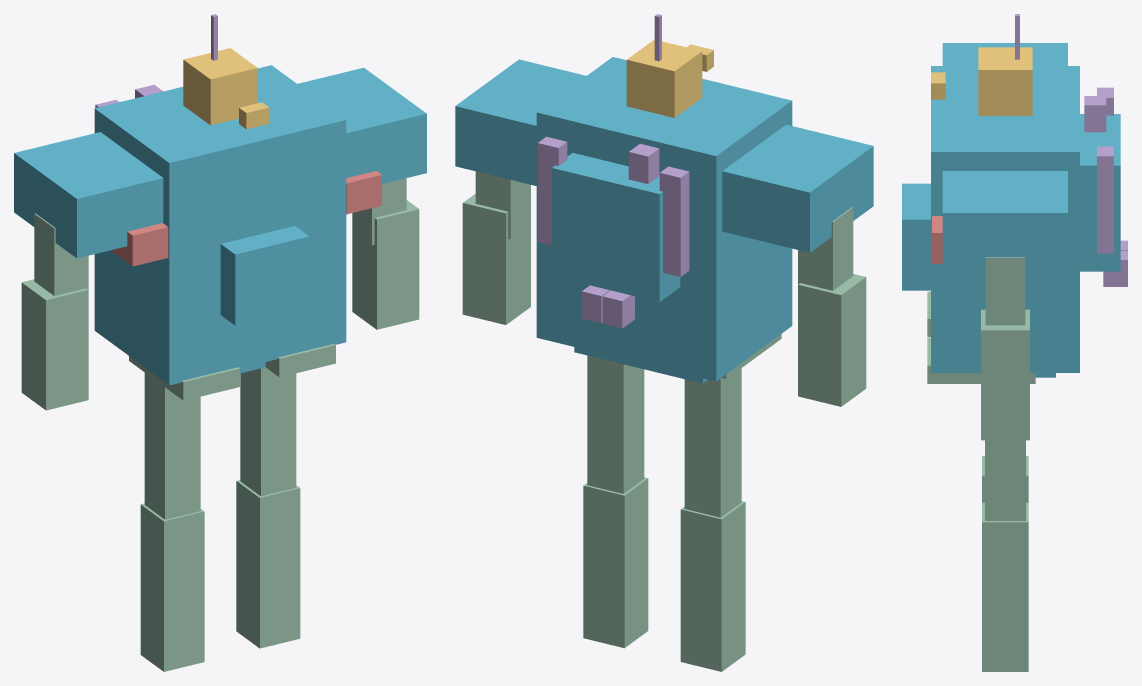
File: mechfall_bt7274.glb
3 renders of one model, left to right at view 1: azimuth 30°, elevation 25°; view 2: azimuth 150°, elevation 25°; view 3: azimuth 270°, elevation 25°, orthographic.
Parts seen in each view (by area): view 1: TORSO HULL, SHOULDER L, UPPER LEG L, UPPER LEG R, SHOULDER R, FOREARM L, REACTOR CORE, LOWER LEG L, FOREARM R, LOWER LEG R, COCKPIT CANOPY, UPPER ARM L (+6 smaller); view 2: TORSO HULL, SHOULDER L, EW BACKPACK, UPPER LEG L, UPPER LEG R, SHOULDER R, FOREARM L, LOWER LEG L, LOWER LEG R, FOREARM R, COCKPIT CANOPY, RADIATOR L (+7 smaller); view 3: TORSO HULL, SHOULDER R, UPPER LEG R, FOREARM R, EW BACKPACK, COCKPIT CANOPY, LOWER LEG R, REACTOR CORE, UPPER ARM R, SHOULDER L, RADIATOR R, JUMP JET 1 (+4 smaller).
Part boxes in pixels (<box>): TORSO HULL: <box>94,65,346,385</box>; SHOULDER L: <box>14,132,163,258</box>; UPPER LEG L: <box>140,503,204,671</box>; UPPER LEG R: <box>236,480,300,648</box>; SHOULDER R: <box>298,67,426,183</box>; FOREARM L: <box>21,279,88,410</box>; REACTOR CORE: <box>220,226,309,325</box>; LOWER LEG L: <box>144,372,200,519</box>; FOREARM R: <box>352,200,419,329</box>; LOWER LEG R: <box>240,367,296,496</box>; COCKPIT CANOPY: <box>183,48,257,125</box>; UPPER ARM L: <box>34,213,88,295</box>; TORSO HULL: <box>536,57,792,381</box>; SHOULDER L: <box>722,124,873,252</box>; EW BACKPACK: <box>552,153,680,302</box>; UPPER LEG L: <box>680,501,745,671</box>; UPPER LEG R: <box>583,477,648,648</box>; SHOULDER R: <box>455,59,585,185</box>; FOREARM L: <box>798,274,866,406</box>; LOWER LEG L: <box>684,368,741,517</box>; LOWER LEG R: <box>587,355,644,493</box>; FOREARM R: <box>462,194,530,324</box>; COCKPIT CANOPY: <box>626,39,702,117</box>; RADIATOR L: <box>659,166,689,276</box>; TORSO HULL: <box>931,66,1079,372</box>; SHOULDER R: <box>942,171,1067,271</box>; UPPER LEG R: <box>982,502,1028,671</box>; FOREARM R: <box>981,309,1029,440</box>; EW BACKPACK: <box>1080,114,1120,271</box>; COCKPIT CANOPY: <box>978,47,1032,115</box>; LOWER LEG R: <box>985,440,1025,520</box>; REACTOR CORE: <box>902,183,930,290</box>; UPPER ARM R: <box>985,257,1025,325</box>; SHOULDER L: <box>942,43,1067,65</box>; RADIATOR R: <box>1097,146,1113,253</box>; JUMP JET 1: <box>1084,96,1106,132</box>.
Size of the model in its own units: 5.06 by 8.12 by 2.67.
